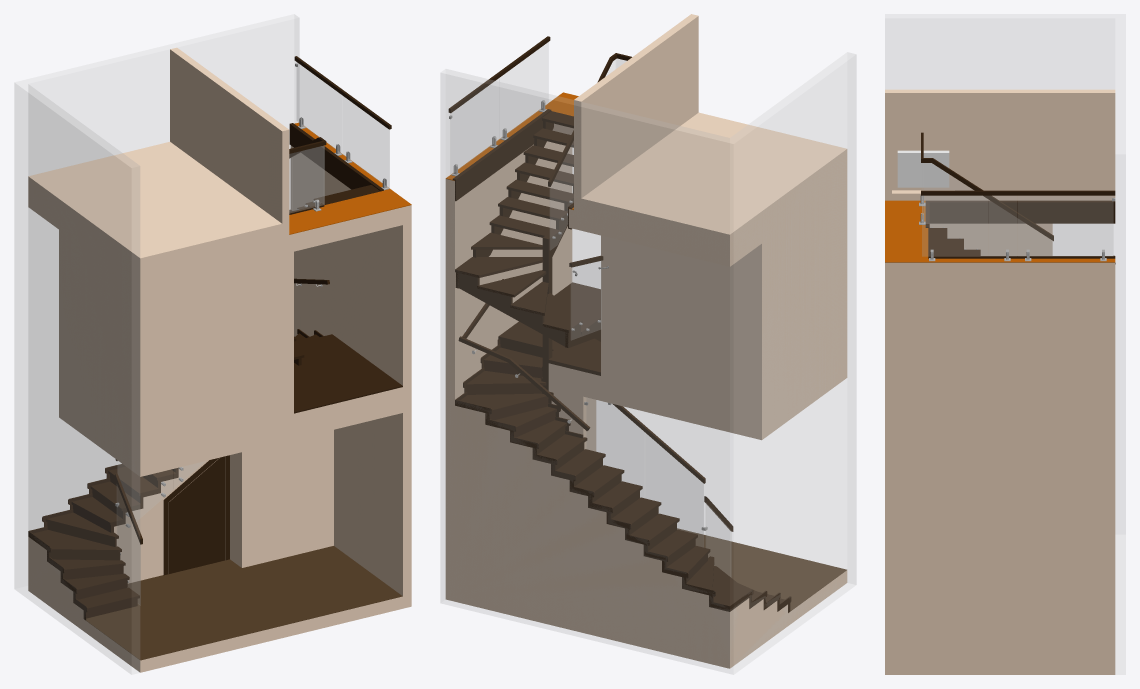
File: Лестница.obj
3 views of the same model, side by side, from view 1: azimuth 30°, elevation 25°; view 2: azimuth 150°, elevation 25°; view 3: azimuth 270°, elevation 25° (orthographic). The views are drawn at different scales.
Size of the model in its own units: 4.76 by 8.23 by 3.45.
